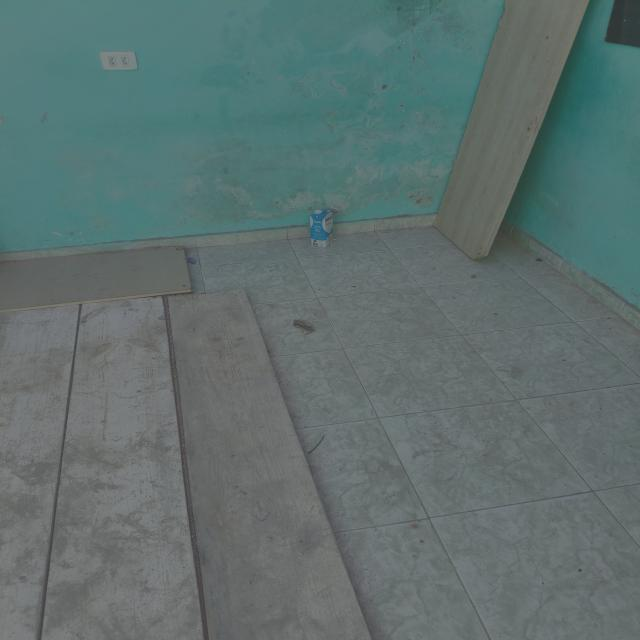Caixa de Leite: (308, 209, 335, 249)
